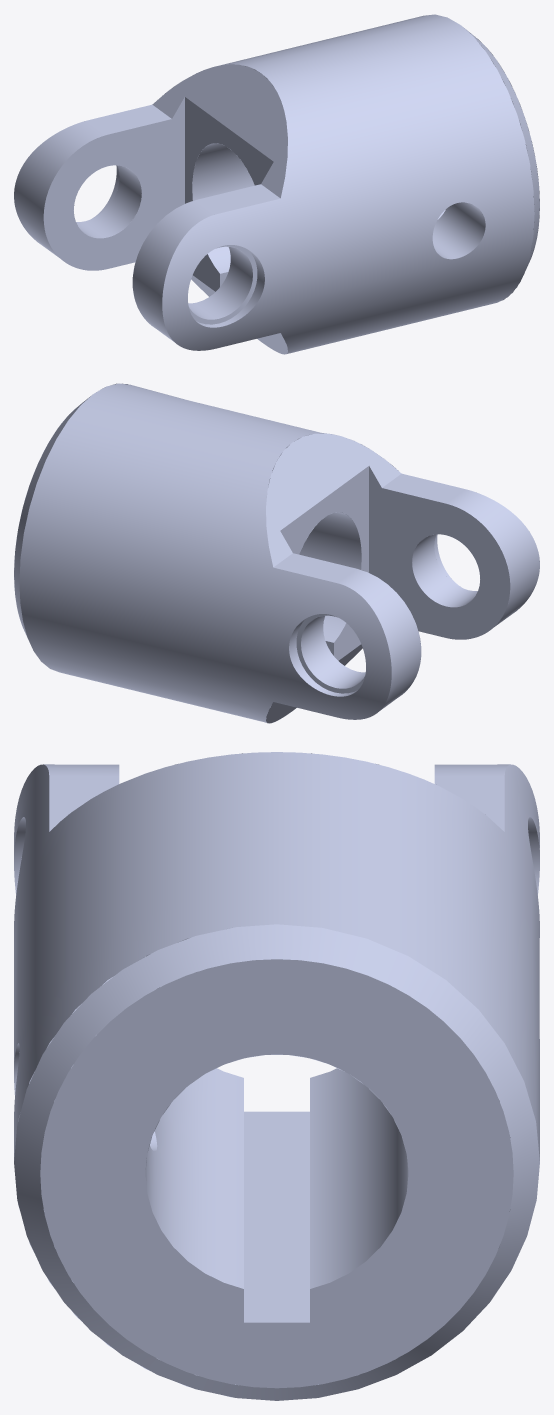
3 renders of one model, top to bottom at view 1: azimuth 30°, elevation 25°; view 2: azimuth 150°, elevation 25°; view 3: azimuth 270°, elevation 25°, orthographic. The views are drawn at different scales.
Parts seen in each view (by area): view 1: FACE (×18); view 2: FACE (×17); view 3: FACE (×12).
Boxes of the visible parts, x1,y1,x2,y2 form: FACE (×18): (14,14,539,354); FACE (×17): (14,383,539,723); FACE (×12): (14,752,539,1400).
Size of the model in its own units: 0.024 by 0.016 by 0.016.
